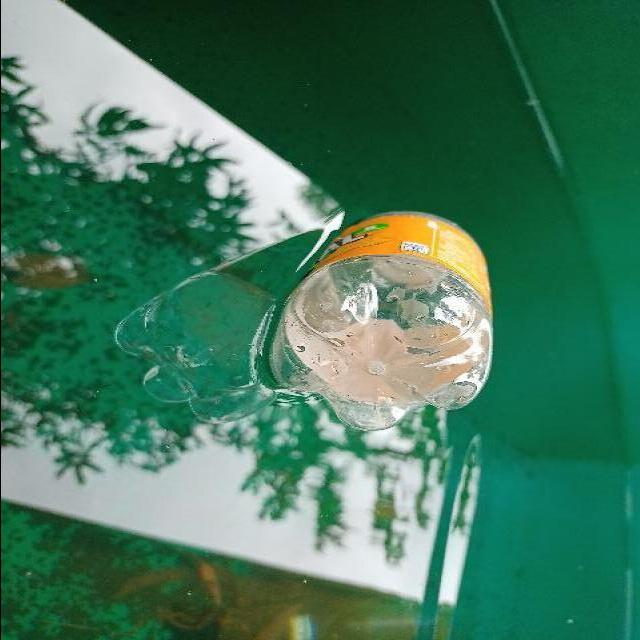Bottle: (254, 197, 504, 439)
